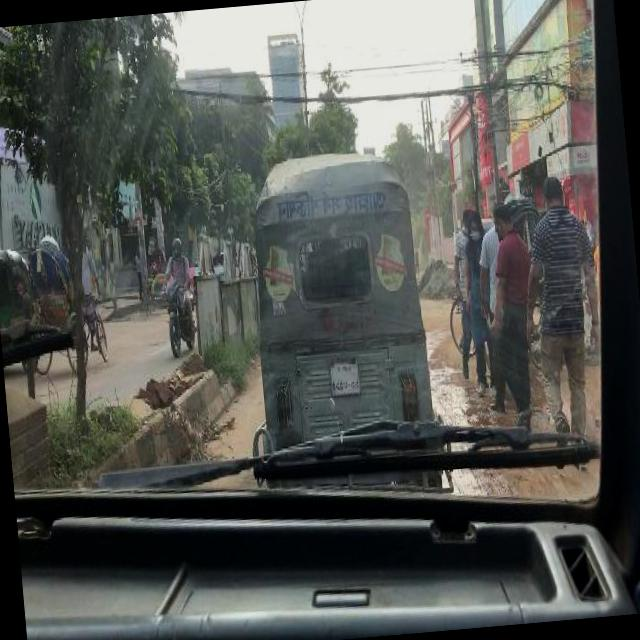motorcycle: (234, 156, 452, 497), (24, 228, 108, 372), (0, 244, 39, 381), (158, 272, 200, 358), (140, 246, 170, 312)
